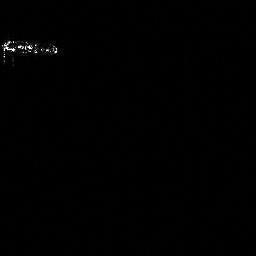ship: (1, 35, 70, 67)
